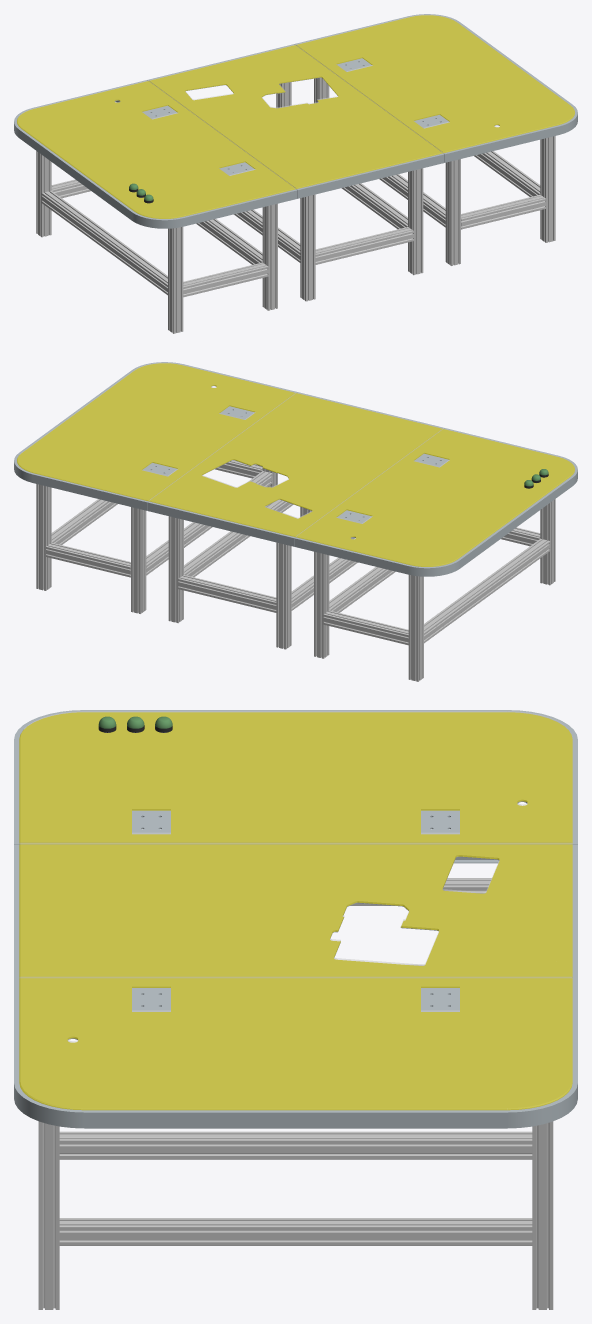
File: Conveyor_Desk.glb
3 views of the same model, one above another, from view 1: azimuth 30°, elevation 25°; view 2: azimuth 150°, elevation 25°; view 3: azimuth 270°, elevation 25° (orthographic). The views are drawn at different scales.
Size of the model in its own units: 2.7 by 0.7421 by 1.6.
